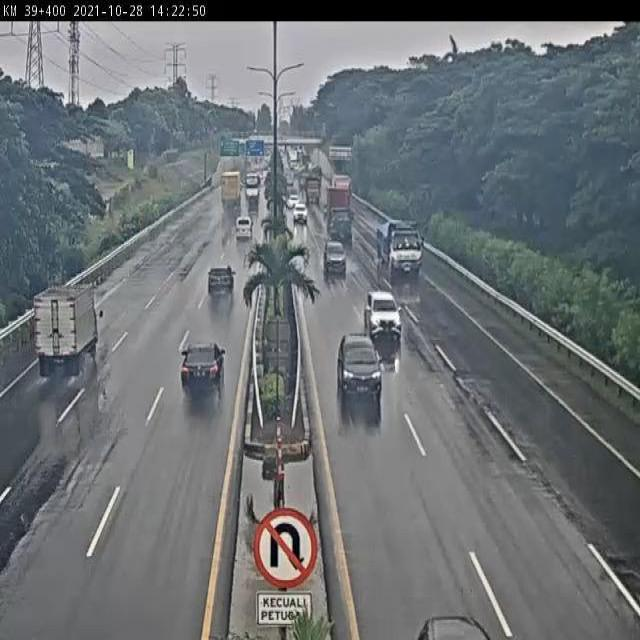car: (178, 339, 227, 392), (206, 262, 239, 294)
truck-l-: (374, 217, 429, 284)
truck-m-: (33, 286, 105, 378)
truck-xl-: (325, 188, 354, 243)
